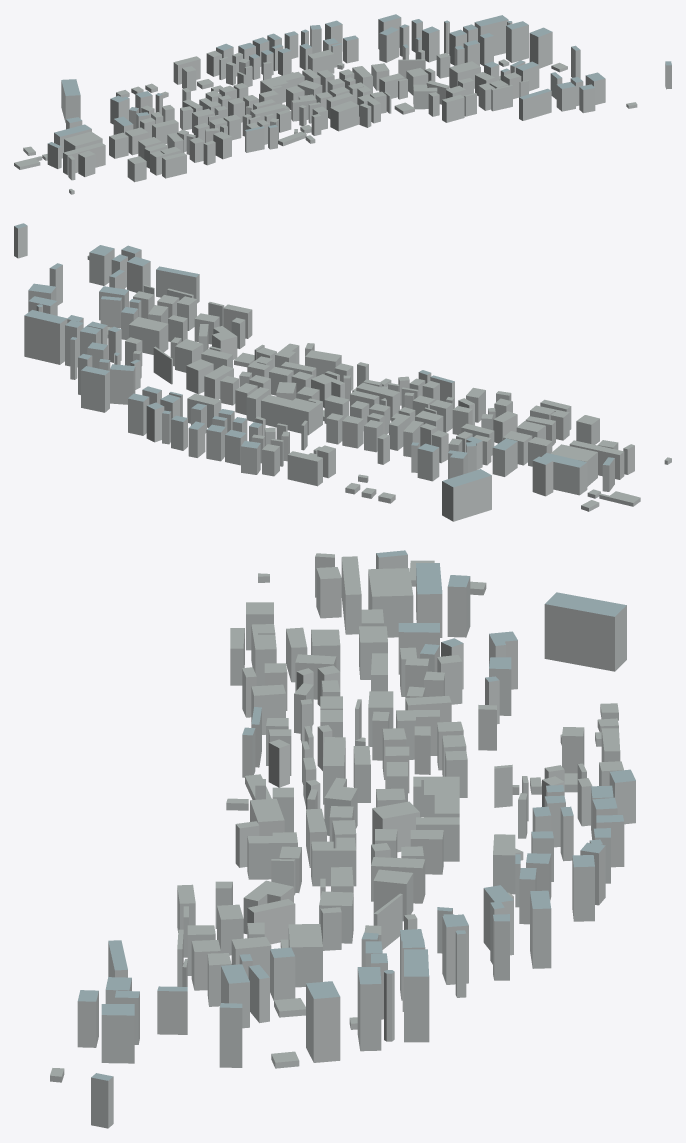
File: far.glb
3 renders of one model, top to bottom at view 1: azimuth 30°, elevation 25°; view 2: azimuth 150°, elevation 25°; view 3: azimuth 270°, elevation 25°, orthographic. The views are drawn at different scales.
Bounding box in the file's own units: 512 × 28.9 × 226.
